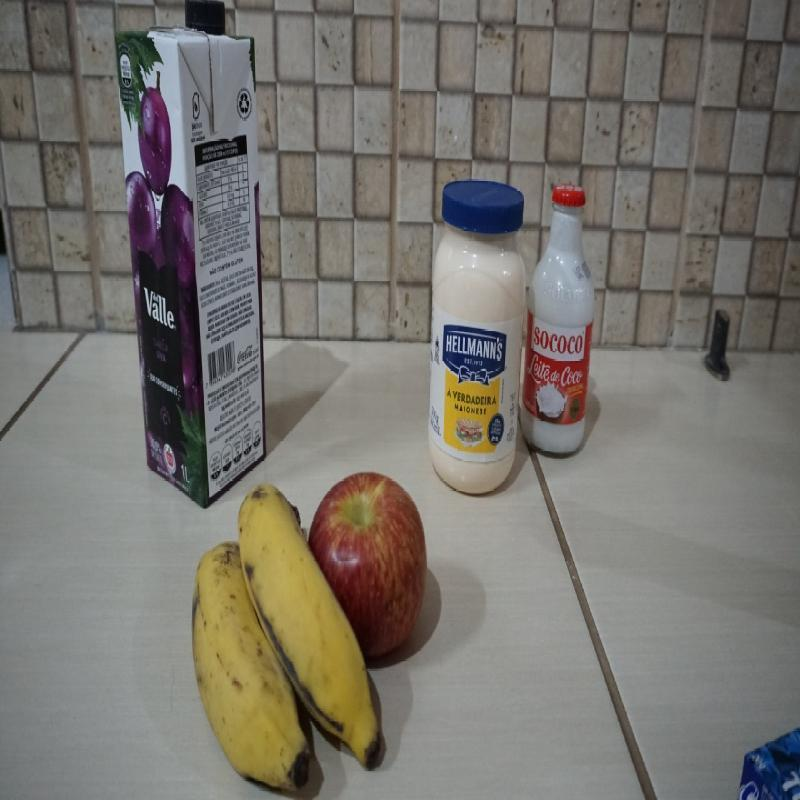Apple: (304, 466, 427, 656)
Banana: (192, 484, 386, 780)
Coconut Milk: (526, 186, 594, 455)
Mayonnaise: (431, 180, 532, 494)
